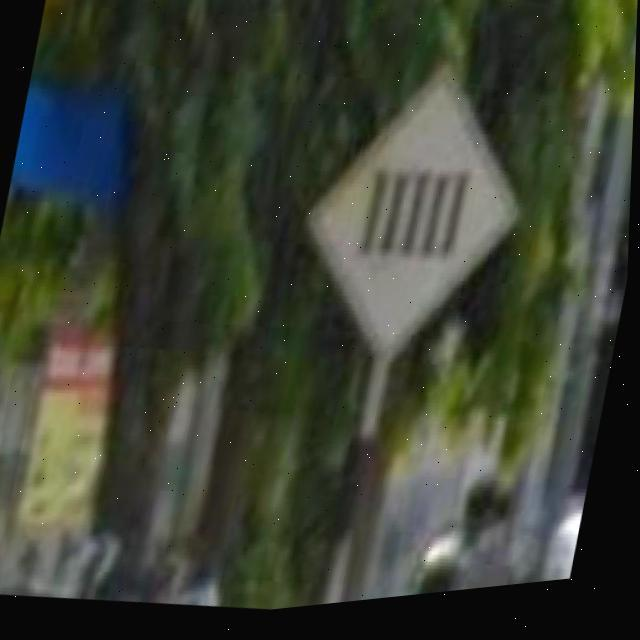Peringatan Perlintasan Kereta Api: (309, 78, 542, 368)
